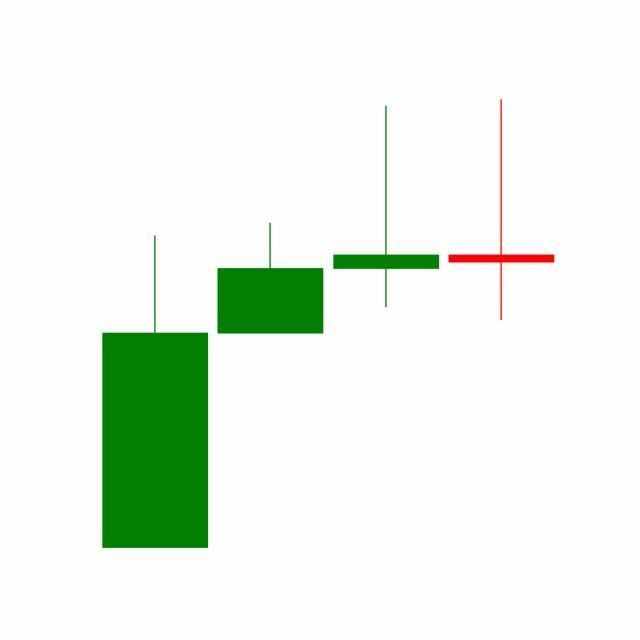Spinning Top: (329, 104, 445, 310)
